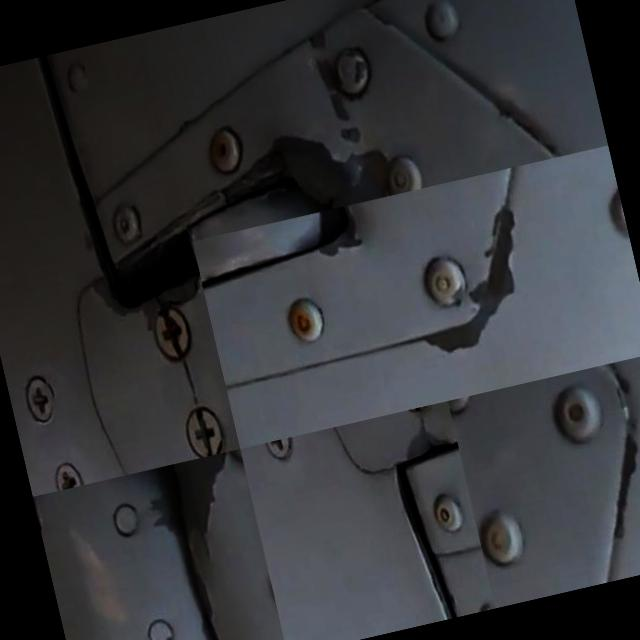crack: (175, 349, 205, 400)
